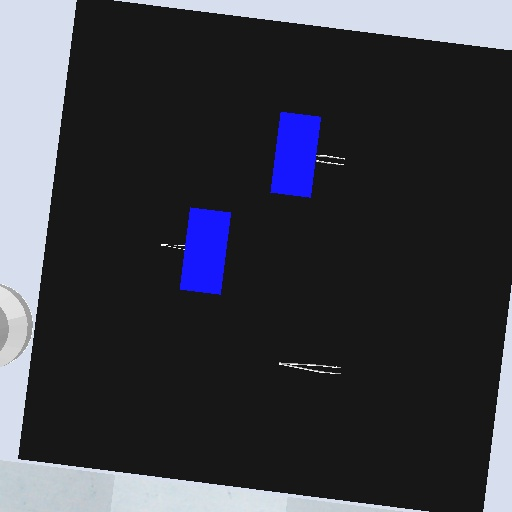pinza: (275, 358, 345, 378), (313, 152, 348, 169), (158, 240, 187, 254)
